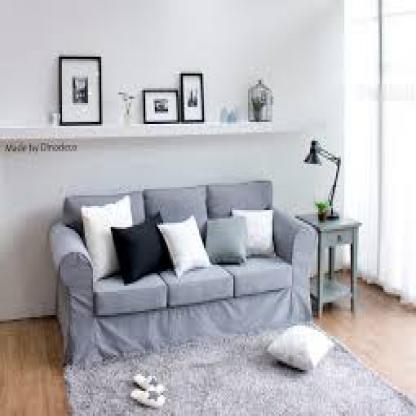sofa: (32, 174, 314, 326)
